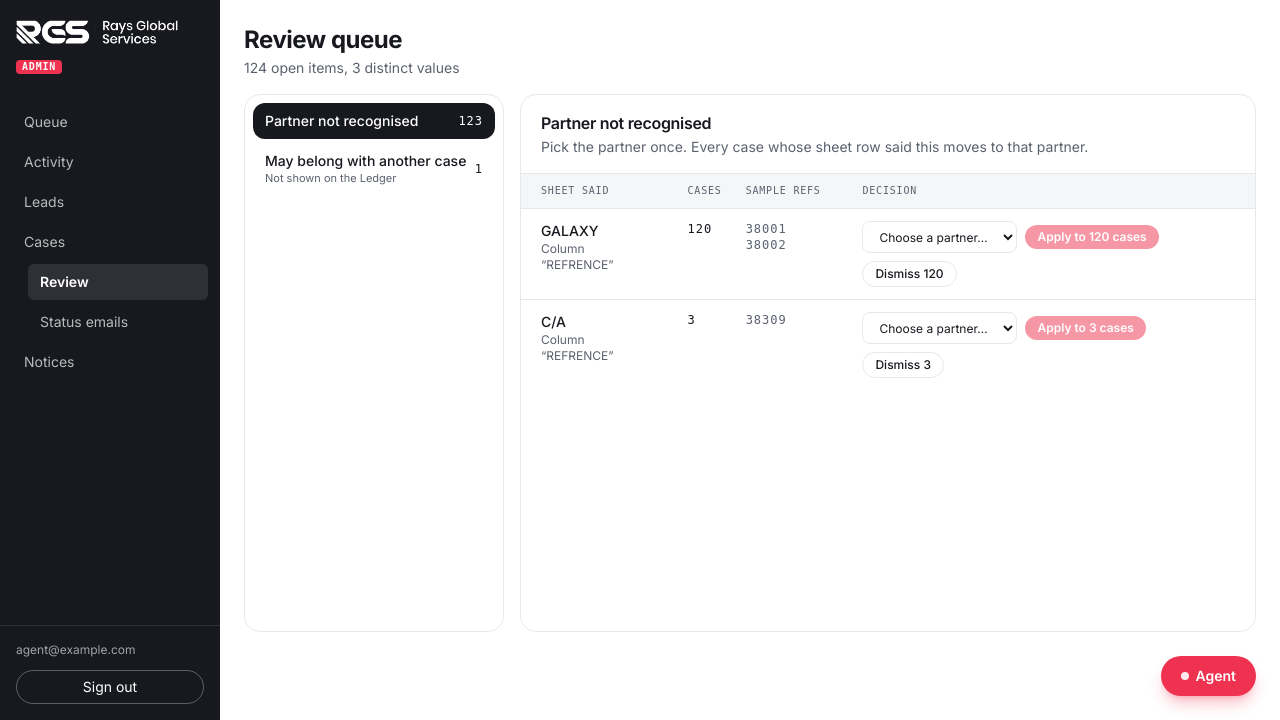
Test case: ReviewPage › applies a partner to the whole group in chunks until the server says nothing is left, then reports the total
Expected: the text "GALAXY" is shown, [541,222,598,239]
Expected: the button "Apply to 120 cases" is disabled, [1026,225,1159,249]
Select "Galaxy Travels" in the dropdown named "Value for GALAXY" at (940, 237), box [862,221,1018,253]
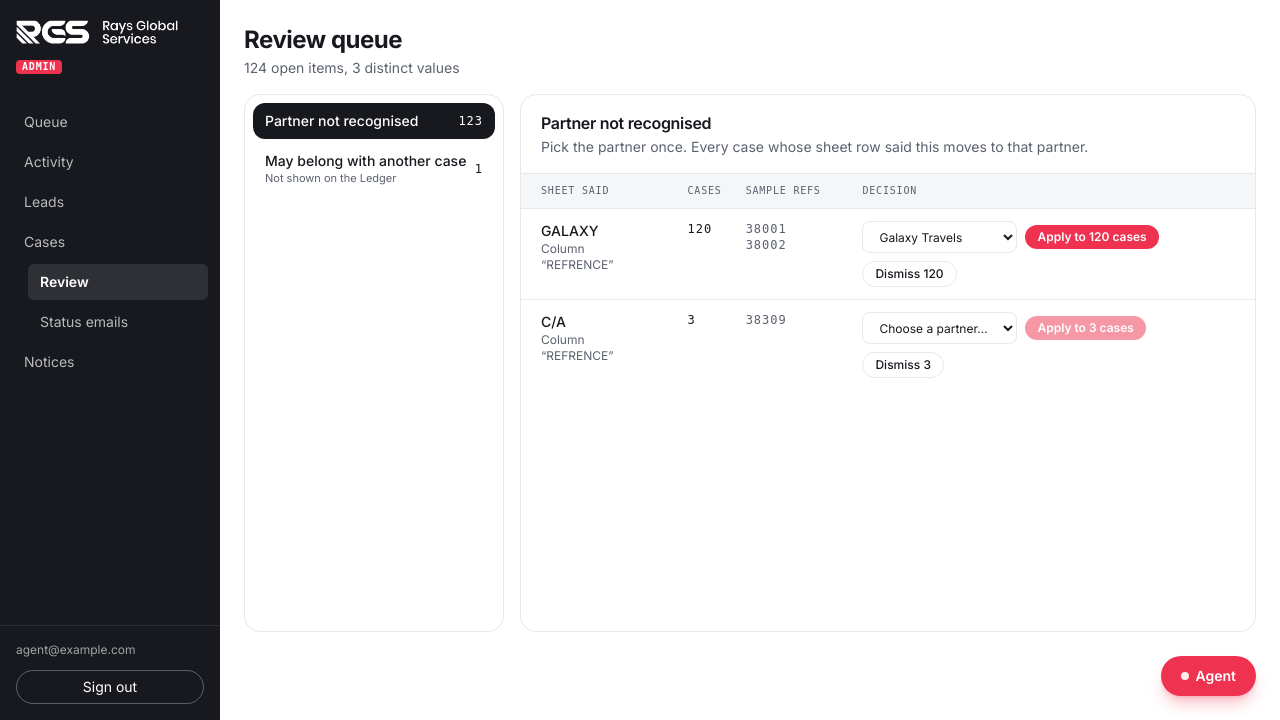
Click the button "Apply to 120 cases" at (1092, 237), box [1026,225,1159,249]
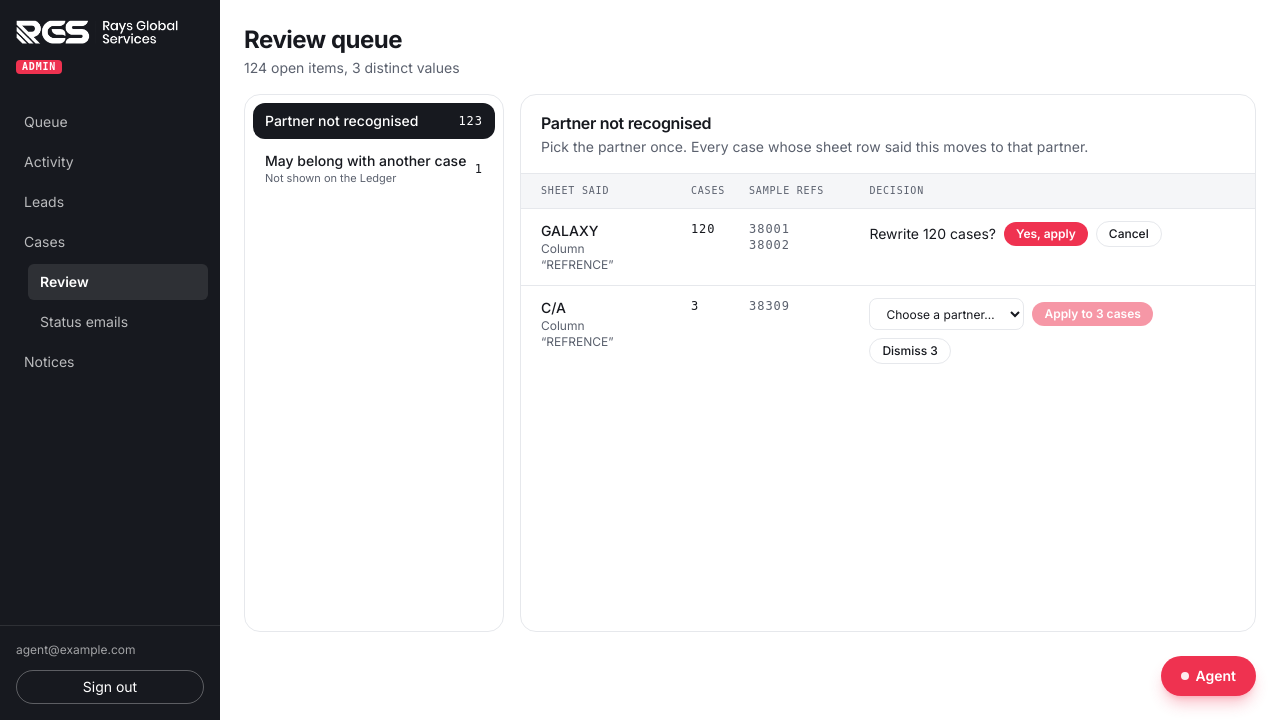
Click the button "Yes, apply" at (1046, 234), box [1004,222,1088,246]
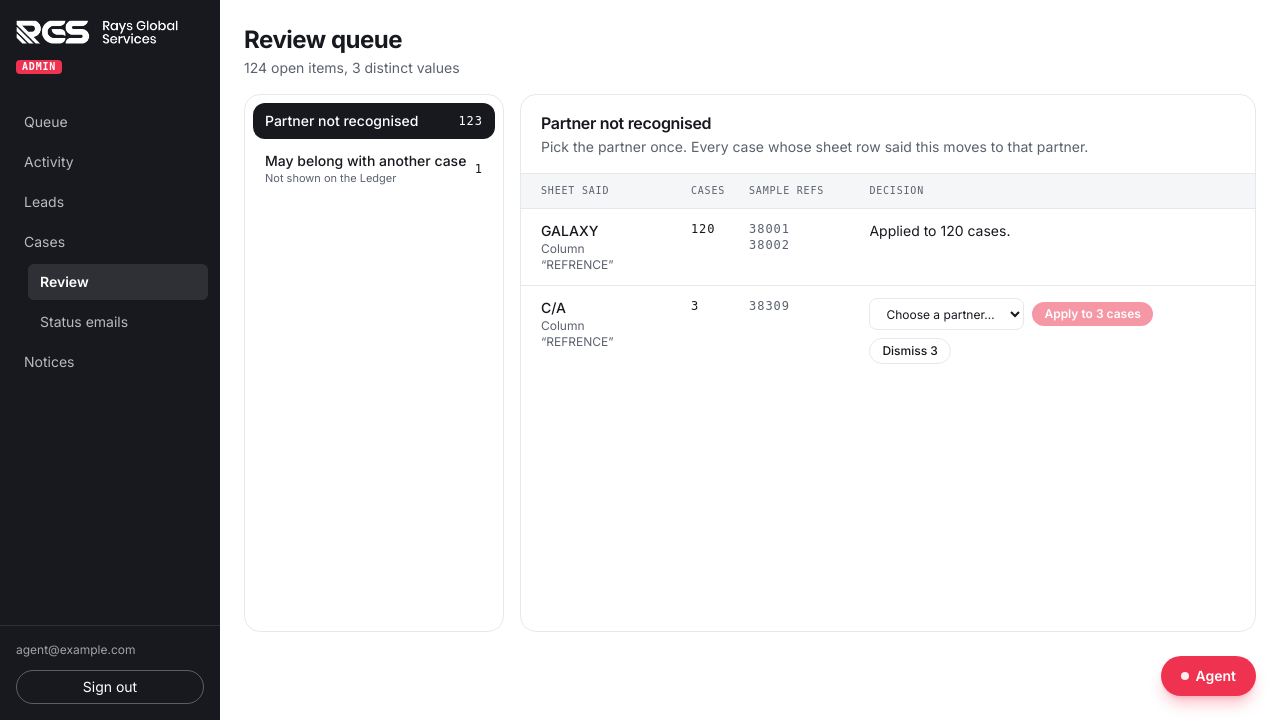
Result: the text "Applied to 120 cases." is shown at [869,222,1010,239]
